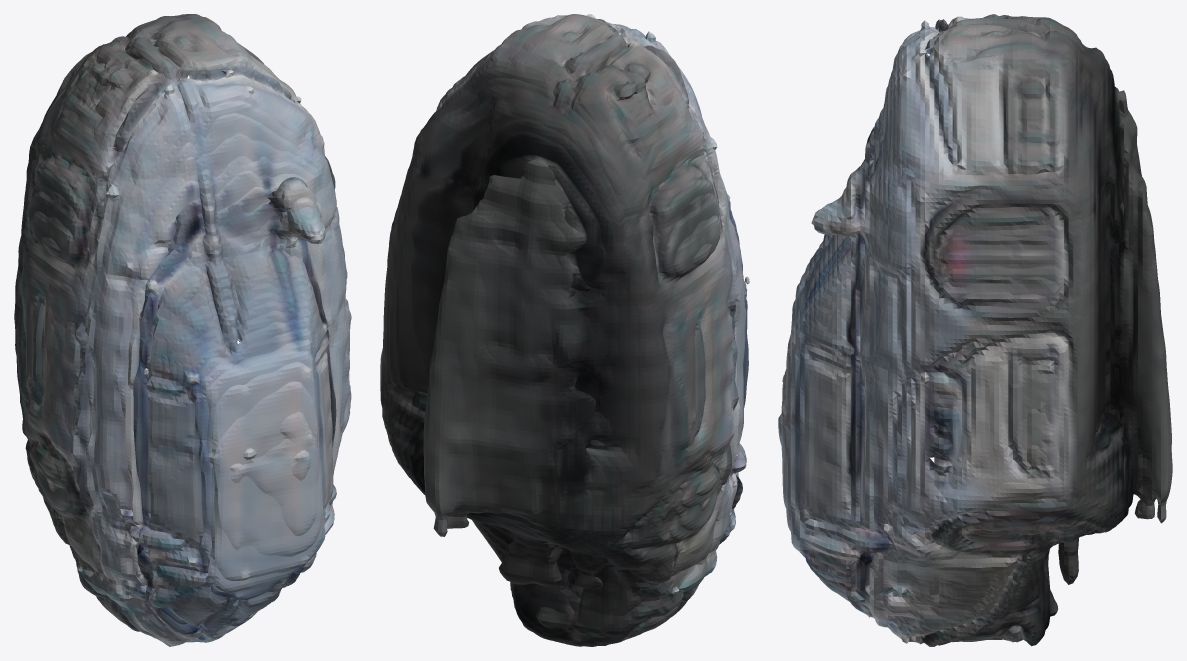
Rendered from 000001_car_auto_sports car.glb.
3 views of the same model, side by side, from view 1: azimuth 30°, elevation 25°; view 2: azimuth 150°, elevation 25°; view 3: azimuth 270°, elevation 25° (orthographic). The views are drawn at different scales.
Parts seen in each view (by area): view 1: world; view 2: world; view 3: world.
Part boxes in pixels (x1=…): world: x1=14, y1=14, x2=351, y2=646; world: x1=380, y1=14, x2=749, y2=646; world: x1=778, y1=14, x2=1172, y2=646.
Bounding box in the file's own units: 0.5336 × 1.01 × 0.5815.
